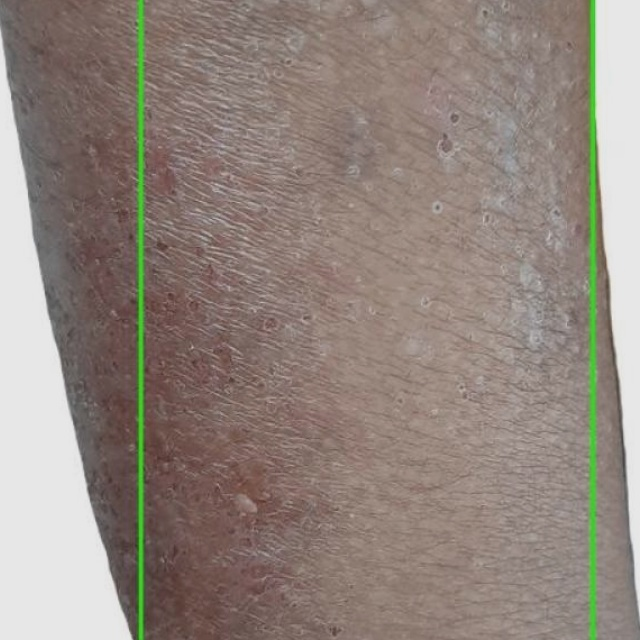Atopic Dermatitis: (0, 0, 140, 639)
